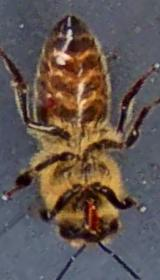varroa_mite: (34, 80, 69, 122)
